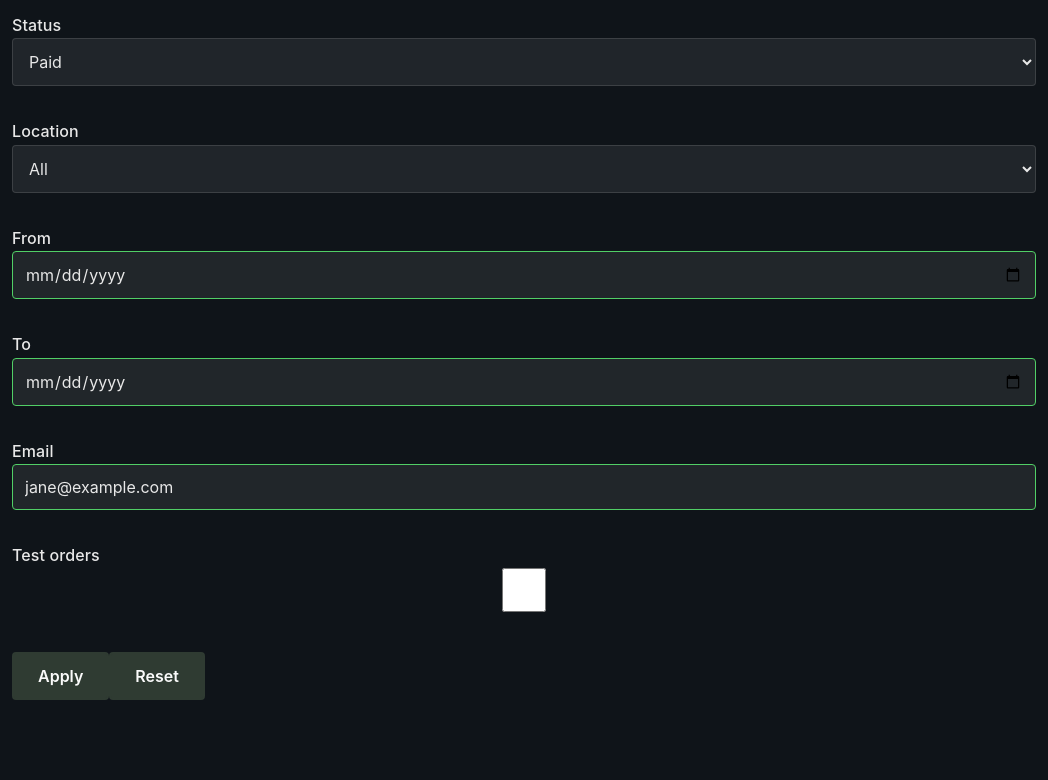
Scenario: OrdersFilters › given the user clicks reset › clears all fields and navigates to bare /admin/orders
The width and height of the screenshot is (1048, 780).
Expected: the dropdown labelled "Status" shows "Paid", 12,38 -> 1036,86
Click the button "Reset": click(157, 676) 109,652 -> 205,700
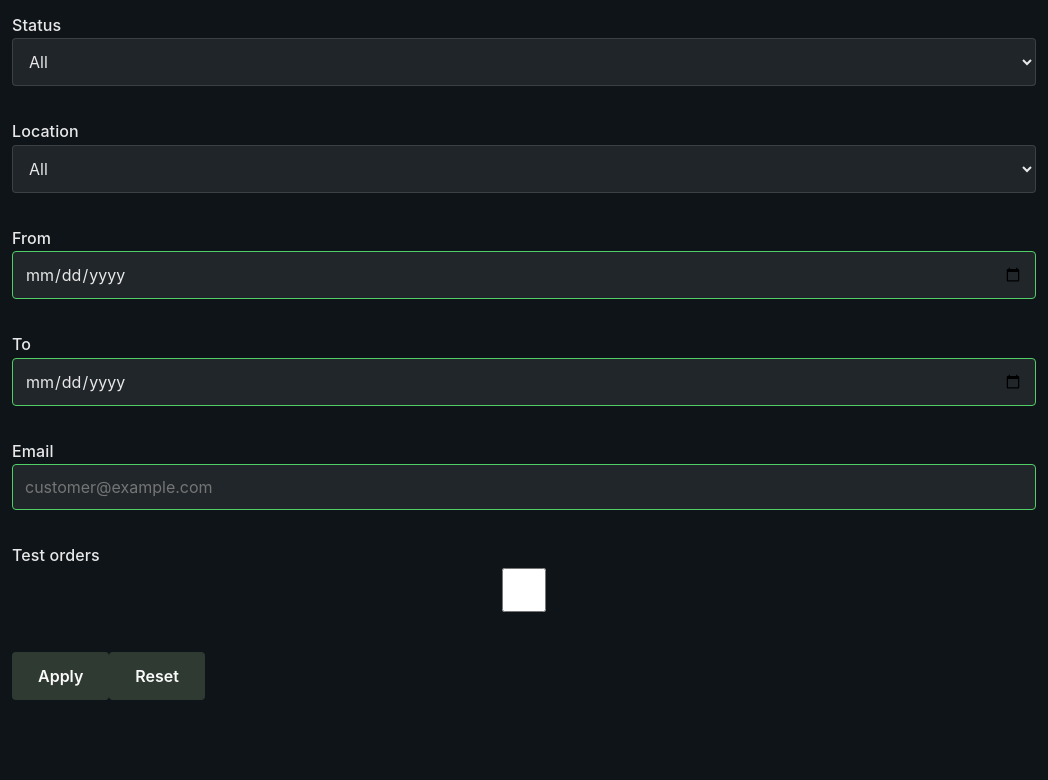
Result: the dropdown labelled "Status" shows "All" at 12,38 -> 1036,86
Result: the search field labelled "Email" is empty at 12,464 -> 1036,510
